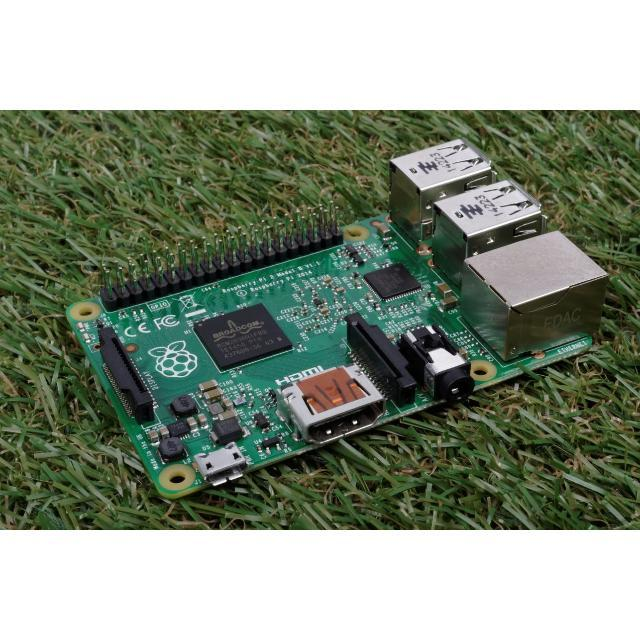Raspberry-Pi-2-B: (69, 141, 609, 499)
